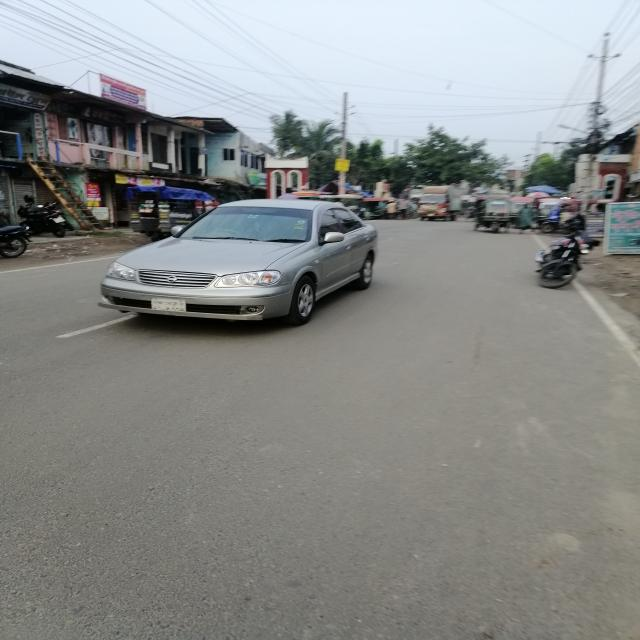Car: (96, 195, 385, 336)
